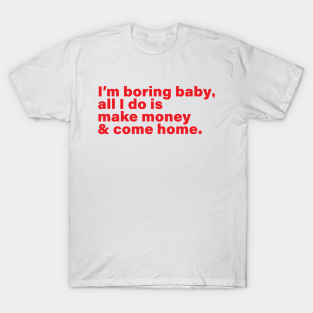design: (95, 83, 217, 136)
